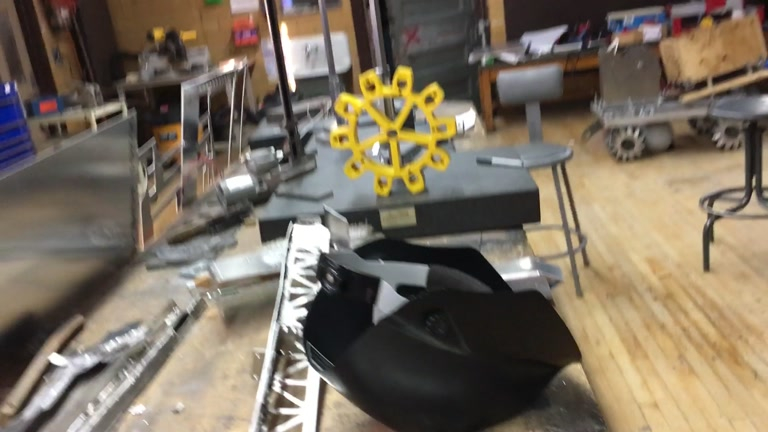gear: (327, 65, 458, 196)
